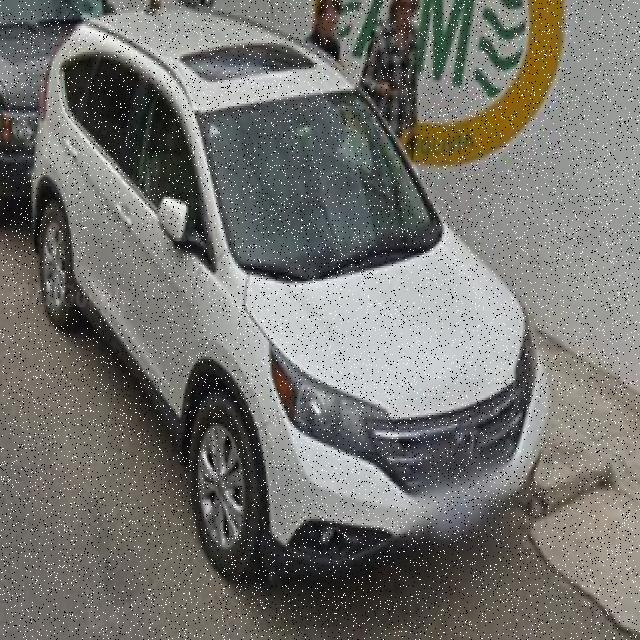cars: (26, 5, 539, 584)
